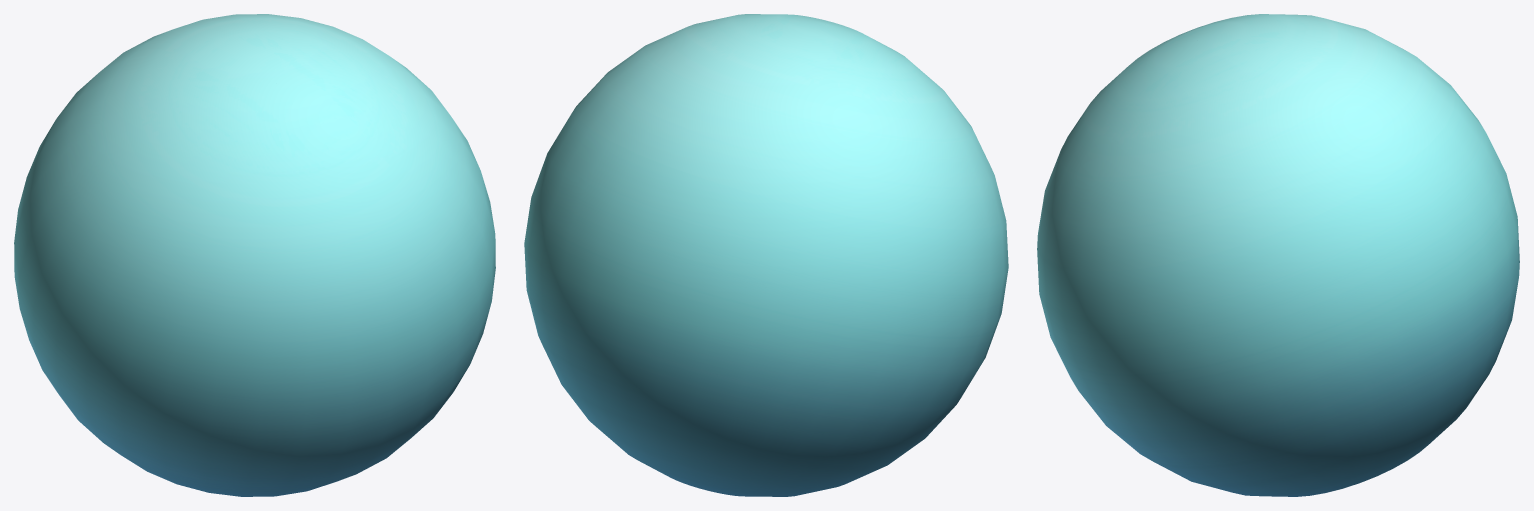
File: uranus.obj
3 views of the same model, side by side, from view 1: azimuth 30°, elevation 25°; view 2: azimuth 150°, elevation 25°; view 3: azimuth 270°, elevation 25° (orthographic).
Visible parts, largest first — view 1: Uranus.008; view 2: Uranus.008; view 3: Uranus.008.
Boxes of the visible parts, bbox=[...] form: Uranus.008: bbox=[14, 14, 495, 496]; Uranus.008: bbox=[524, 14, 1008, 496]; Uranus.008: bbox=[1037, 14, 1519, 496].
Bounding box in the file's own units: 1.73 × 1.74 × 1.74.
